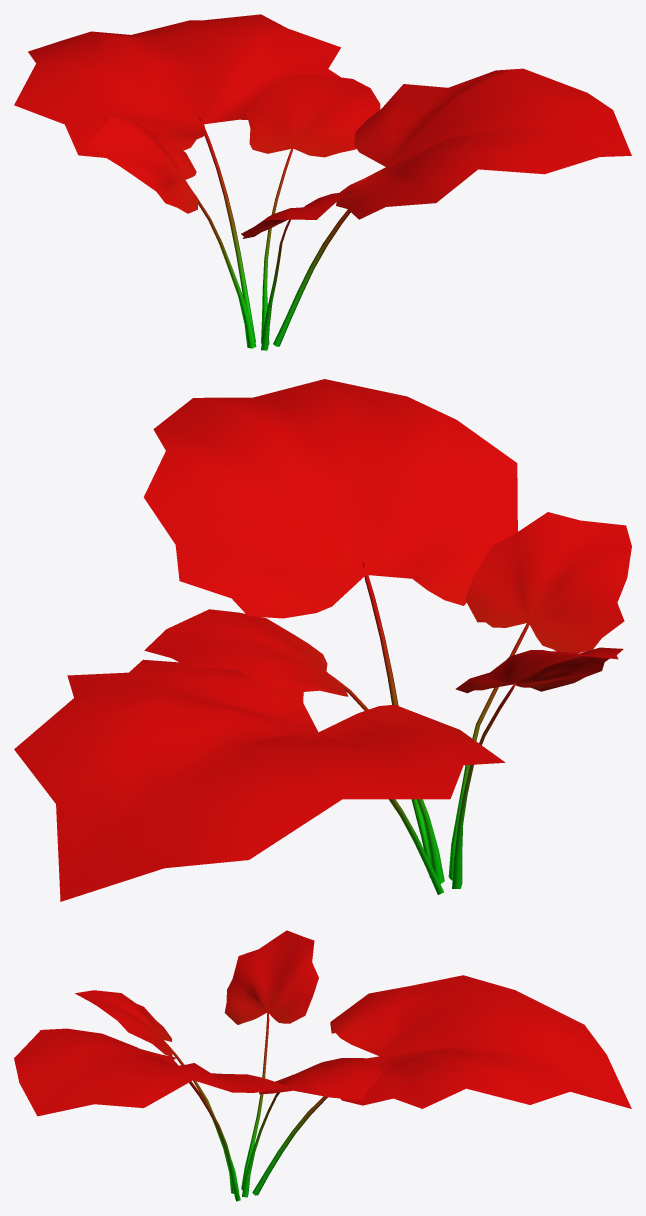
File: Coltsfoot_LOD1_Var4_xbtkdfvqx.fbx
3 renders of one model, top to bottom at view 1: azimuth 30°, elevation 25°; view 2: azimuth 150°, elevation 25°; view 3: azimuth 270°, elevation 25°, orthographic. The views are drawn at different scales.
Parts seen in each view (by area): view 1: _jrqr_Var4_LOD1; view 2: _jrqr_Var4_LOD1; view 3: _jrqr_Var4_LOD1.
Part boxes in pixels (x1=…): _jrqr_Var4_LOD1: x1=14, y1=14, x2=631, y2=350; _jrqr_Var4_LOD1: x1=14, y1=379, x2=631, y2=901; _jrqr_Var4_LOD1: x1=14, y1=930, x2=631, y2=1201.
Bounding box in the file's own units: 21.49 × 11.93 × 30.29.
